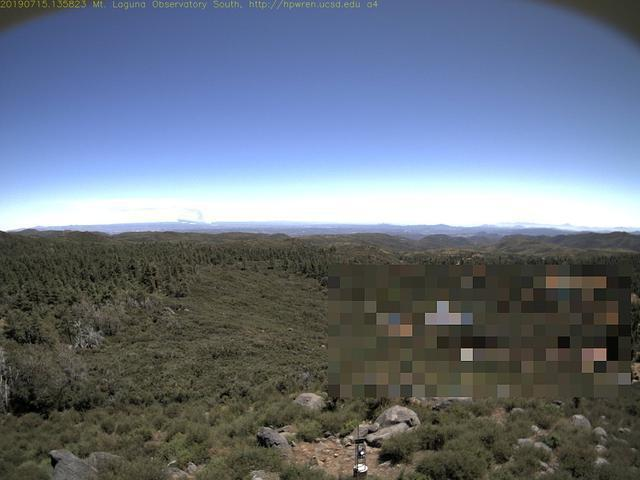smoke: (179, 204, 213, 226)
